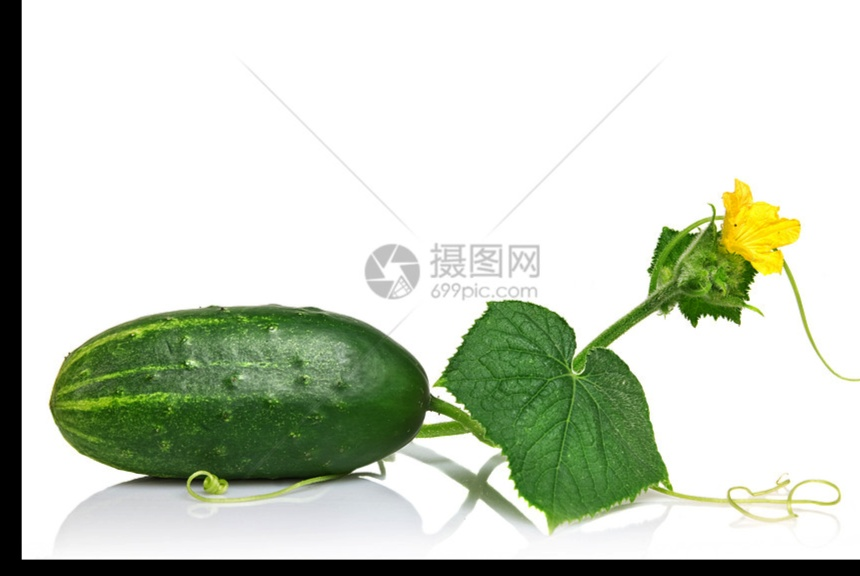cucumber: (48, 309, 432, 481)
cucumber_plant: (436, 159, 813, 520)
